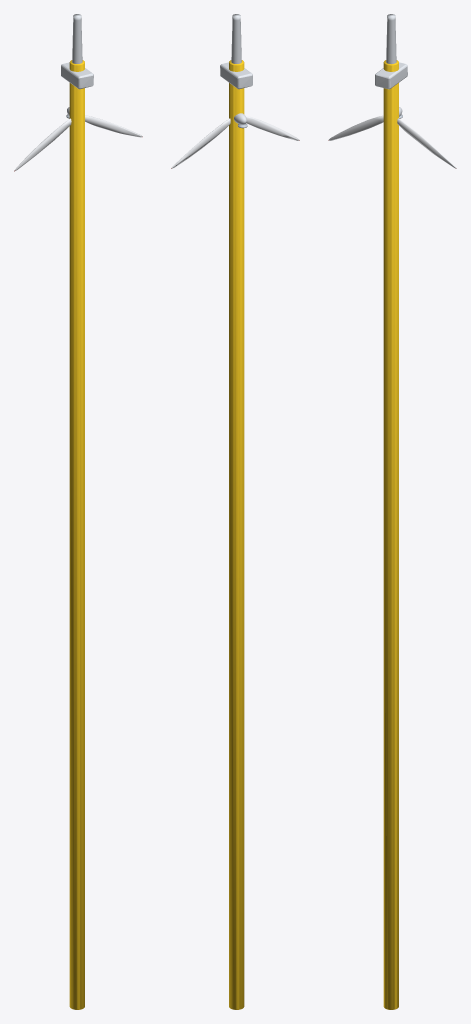
The model's file is WindTurbine.fbx.
The picture shows the model from 3 angles, left to right: view 1: azimuth 30°, elevation 25°; view 2: azimuth 210°, elevation 25°; view 3: azimuth 330°, elevation 25°; orthographic projection.
Parts seen in each view (by area): view 1: Yellow foundation sleeve, Rotor blade 2, Nacelle housing, Tapered white tower; view 2: Yellow foundation sleeve, Rotor blade 2, Nacelle housing, Tapered white tower; view 3: Yellow foundation sleeve, Rotor blade 2, Nacelle housing, Tapered white tower.
Part boxes in pixels (<box>): Yellow foundation sleeve: <box>69,60,84,1009</box>; Rotor blade 2: <box>14,107,142,171</box>; Nacelle housing: <box>61,62,93,89</box>; Tapered white tower: <box>72,14,82,63</box>; Yellow foundation sleeve: <box>229,60,244,1009</box>; Rotor blade 2: <box>171,113,299,168</box>; Nacelle housing: <box>220,62,252,89</box>; Tapered white tower: <box>231,14,241,63</box>; Yellow foundation sleeve: <box>383,60,398,1009</box>; Rotor blade 2: <box>328,107,456,168</box>; Nacelle housing: <box>375,62,407,89</box>; Tapered white tower: <box>386,14,396,64</box>.
Size of the model in its own units: 736 by 5415 by 187.
